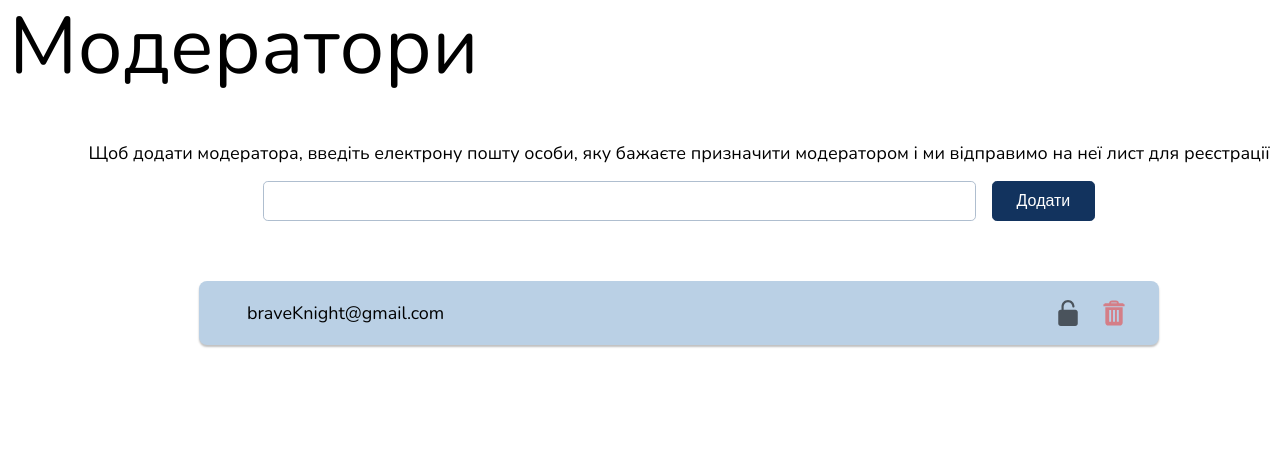
Scenario: Block/Unblock moderator on the Moderators page › accept blocking of a moderator after click on the block icon
The width and height of the screenshot is (1287, 462).
Click the element with test id "unlockSign".
click(1068, 313)  # box [1055,300,1081,326]
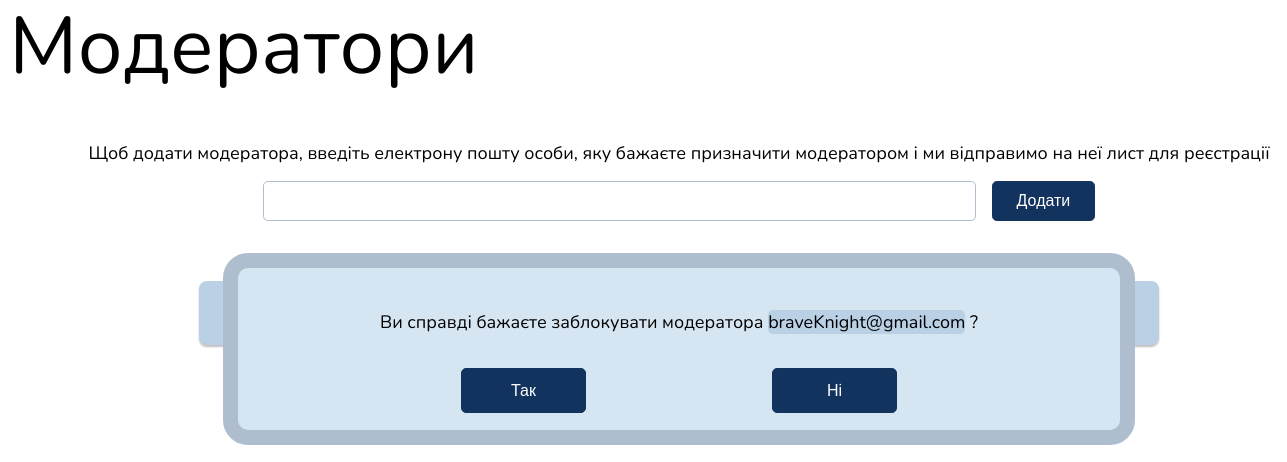
Check: the element with test id "confirmationBox" is shown, box [223,253,1135,445]
Check: the button "Так" is shown
Click the button "Так".
click(524, 390)  # box [461,368,586,413]
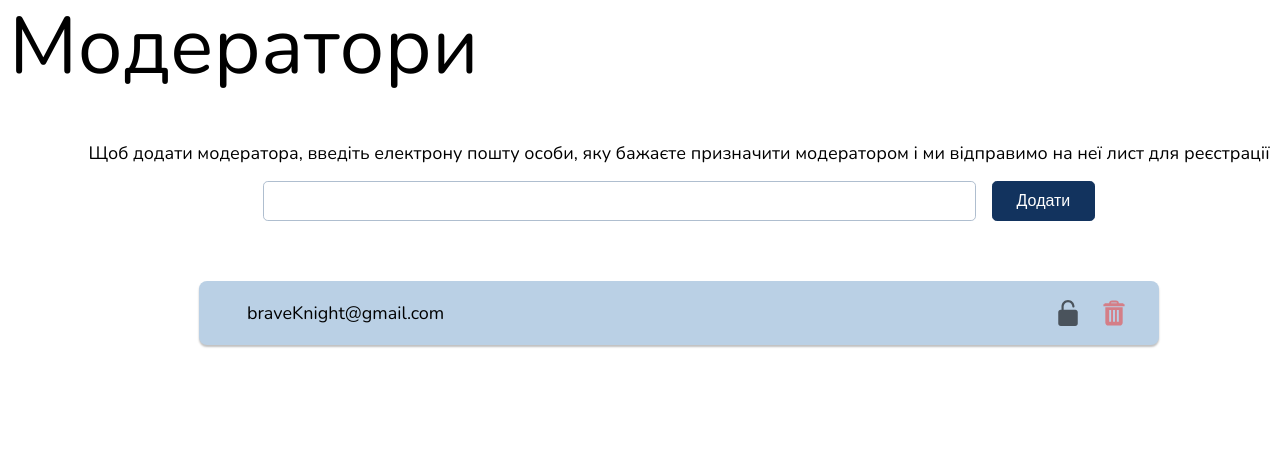
Check: the element with test id "confirmationBox" is gone
